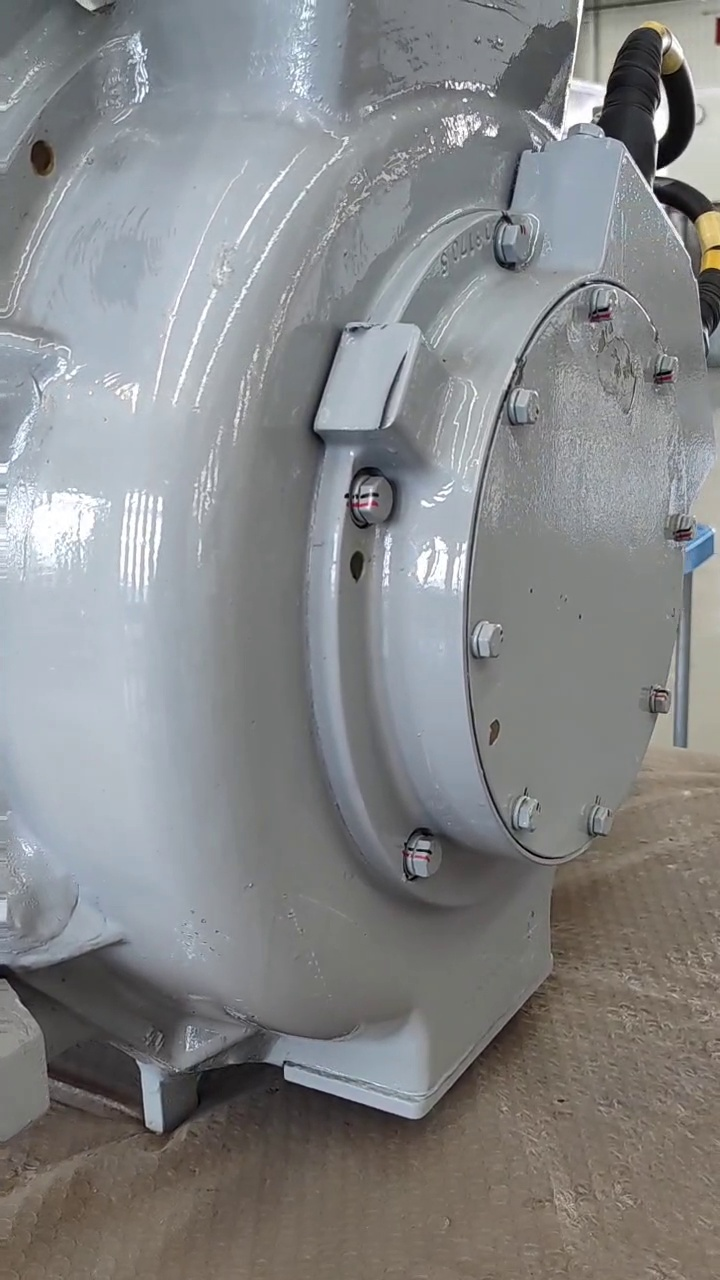shed: (488, 718, 500, 746)
w1: (508, 388, 540, 425)
y1: (471, 619, 505, 661)
y2: (346, 474, 393, 527)
